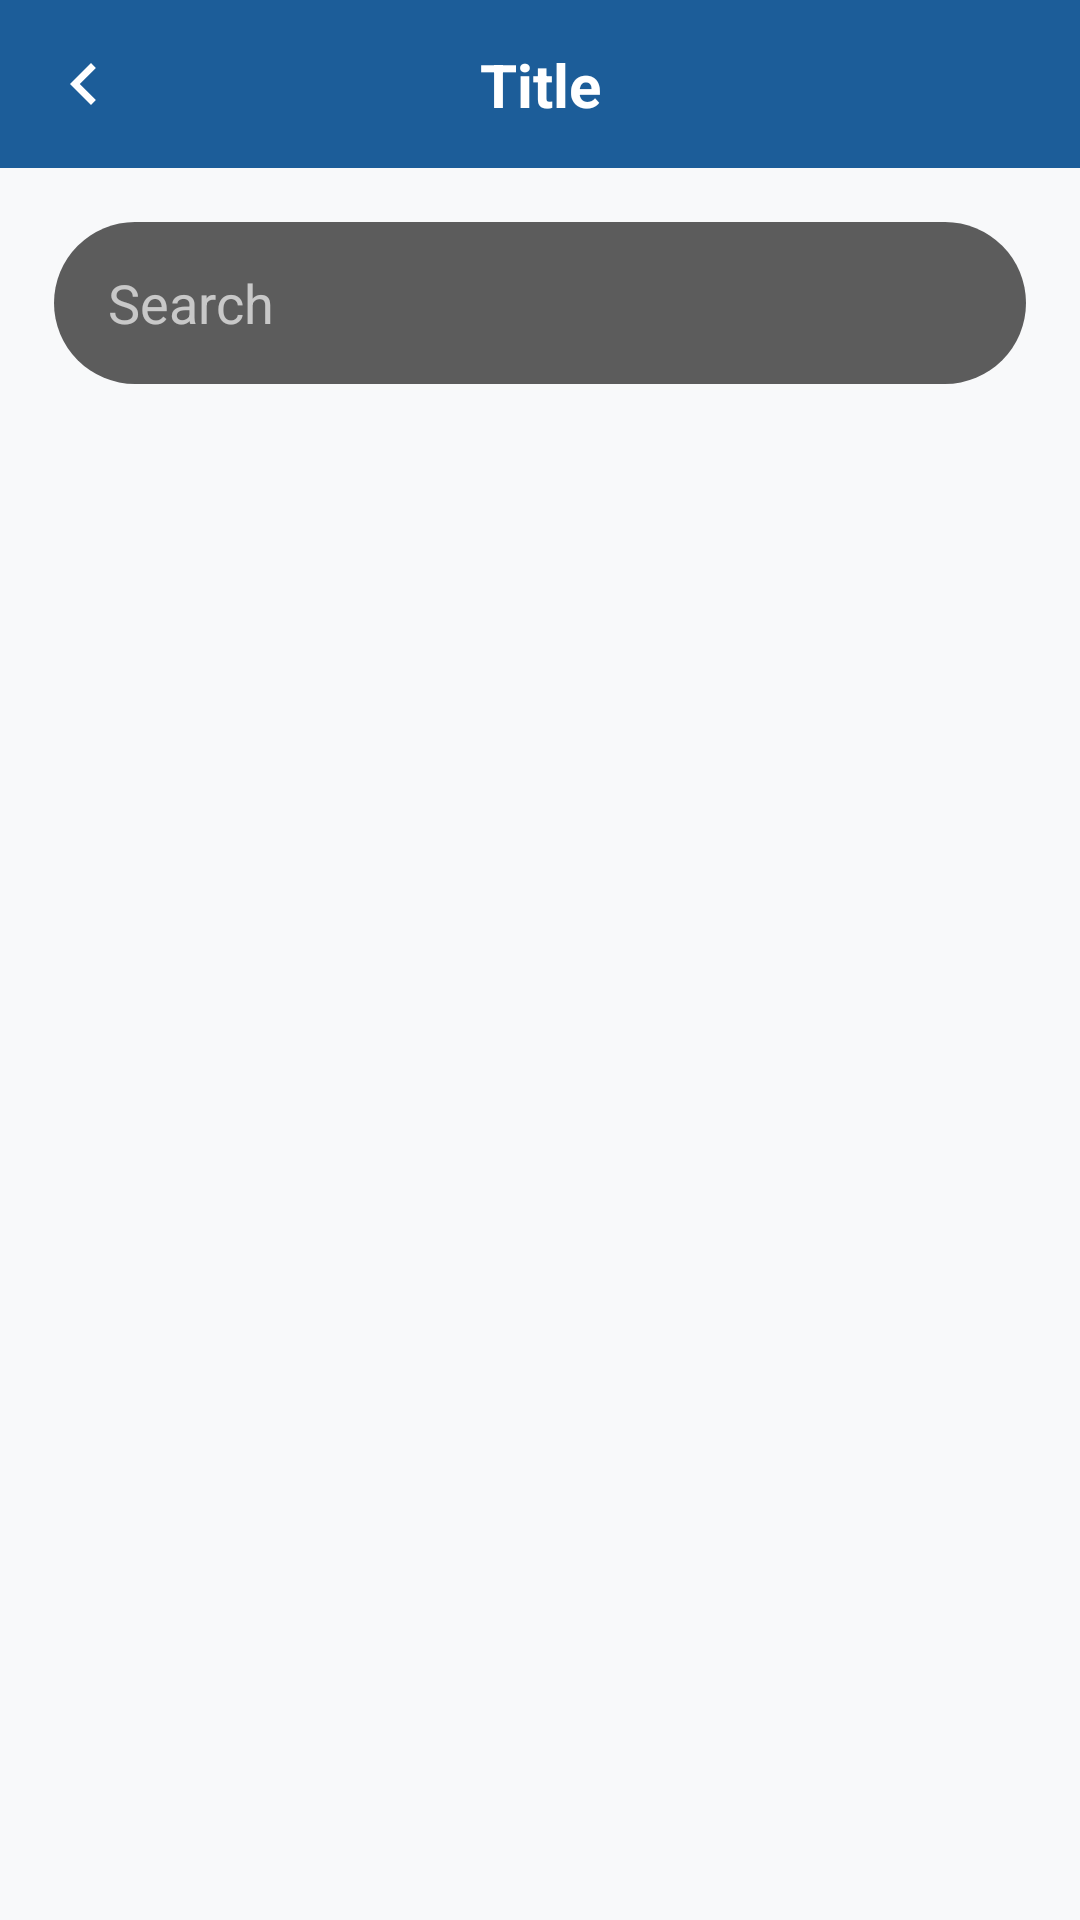

Named icons in this screenshot (1080 x 1920) and their bounding boxes, (x1, y1, x2, y2):
Back: (70, 63, 96, 105)
